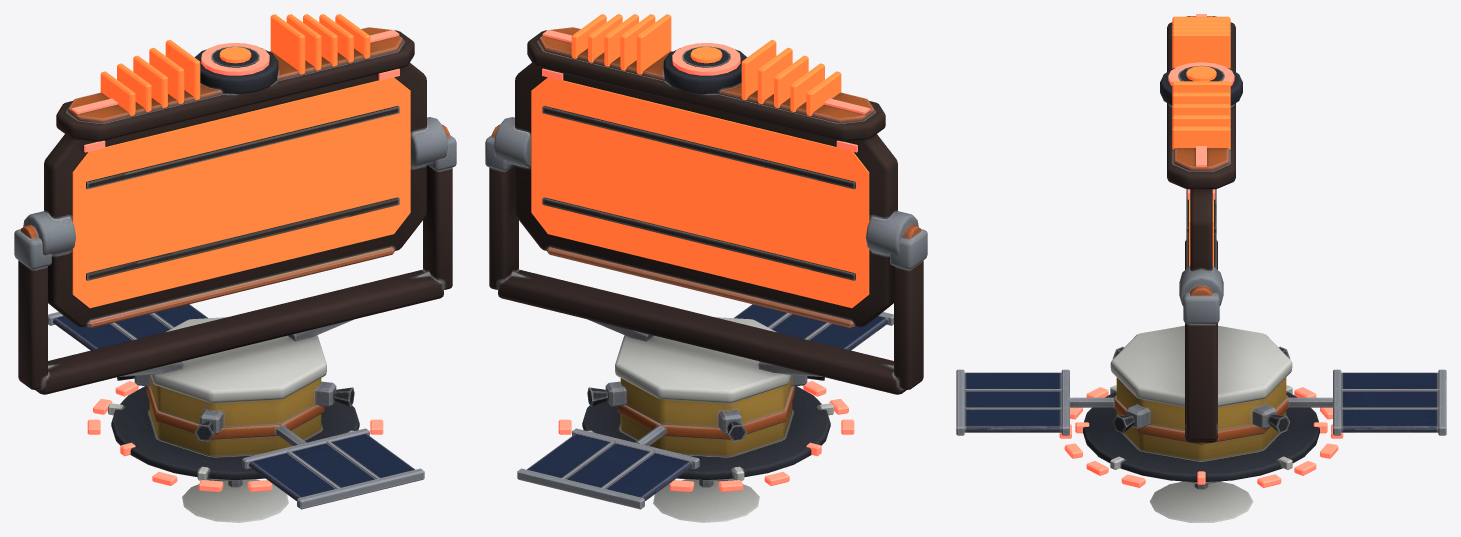
The model's file is sat_thermal_hot.glb.
3 renders of one model, left to right at view 1: azimuth 30°, elevation 25°; view 2: azimuth 150°, elevation 25°; view 3: azimuth 270°, elevation 25°, orthographic. The views are drawn at different scales.
Visible parts, largest first — view 1: sat_thermal_hot, sat_thermal_hot_glow; view 2: sat_thermal_hot, sat_thermal_hot_glow; view 3: sat_thermal_hot, sat_thermal_hot_glow.
Part boxes in pixels (left/top/right/bottom): sat_thermal_hot: left=14, top=27, right=456, bottom=522; sat_thermal_hot_glow: left=71, top=14, right=410, bottom=491; sat_thermal_hot: left=485, top=27, right=927, bottom=522; sat_thermal_hot_glow: left=531, top=14, right=870, bottom=491; sat_thermal_hot: left=956, top=16, right=1446, bottom=522; sat_thermal_hot_glow: left=1059, top=14, right=1343, bottom=487.
Bounding box in the file's own units: 3.42 × 3.64 × 3.54.
Materials: 3 (1 with a texture image).
